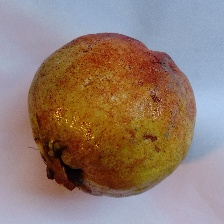guava: (11, 23, 174, 213)
